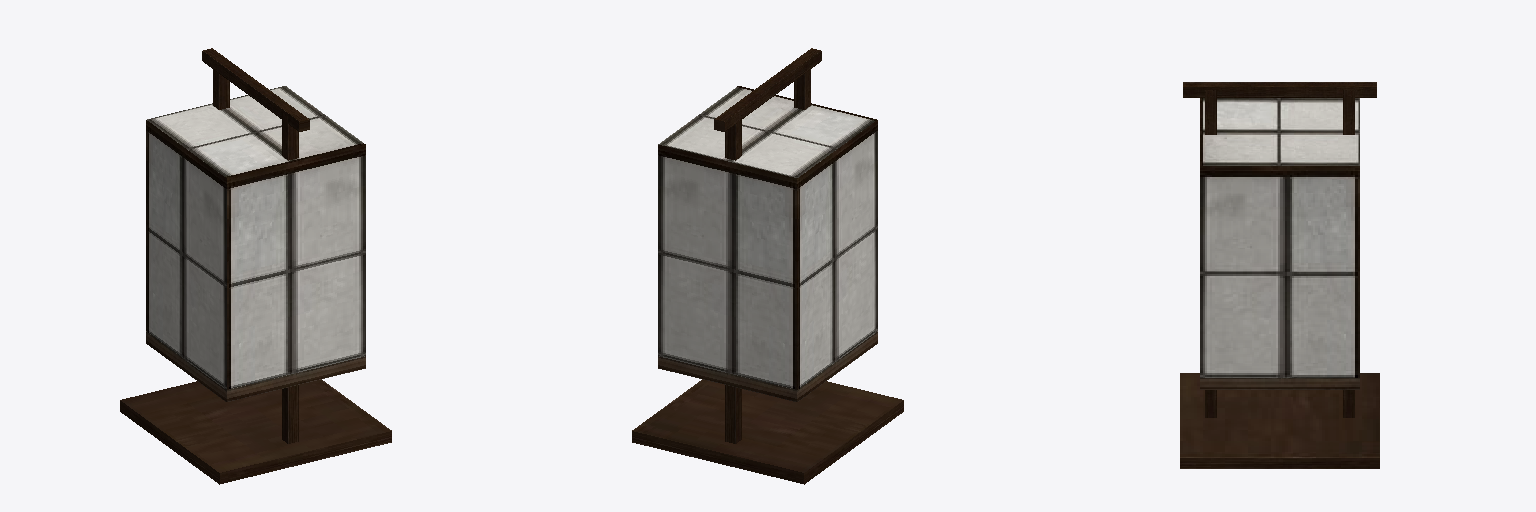
3 renders of one model, left to right at view 1: azimuth 30°, elevation 25°; view 2: azimuth 150°, elevation 25°; view 3: azimuth 270°, elevation 25°, orthographic.
Bounding box in the file's own units: 0.2818 × 0.5338 × 0.2818.
2 materials, 1 textured.